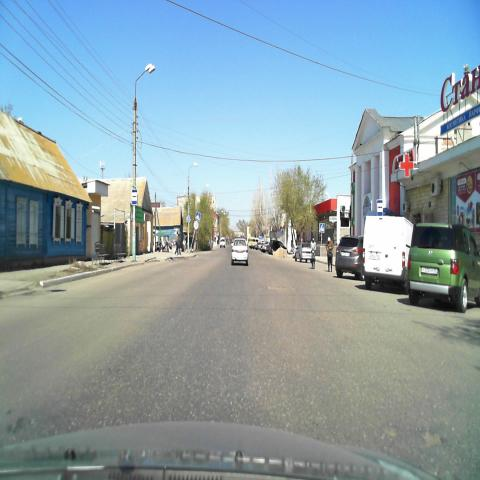5_16: (376, 198, 384, 218), (131, 190, 138, 206)
5_19_1: (195, 211, 202, 223), (319, 222, 325, 233)
